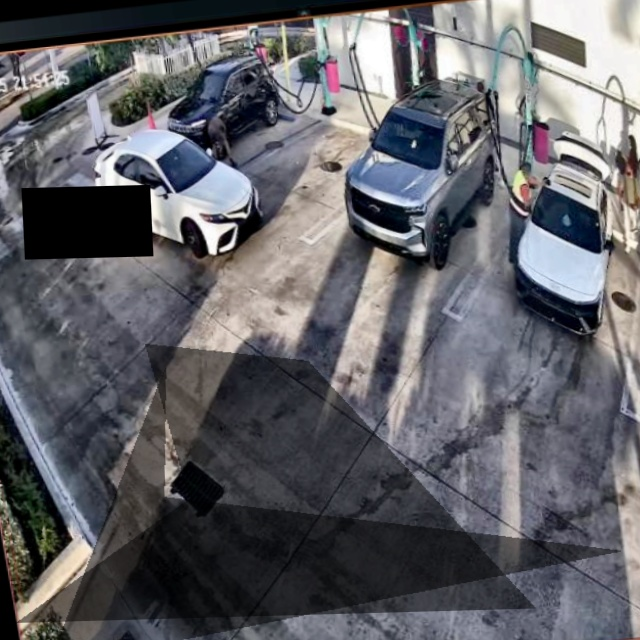Car: (324, 72, 519, 274), (85, 116, 269, 265)
